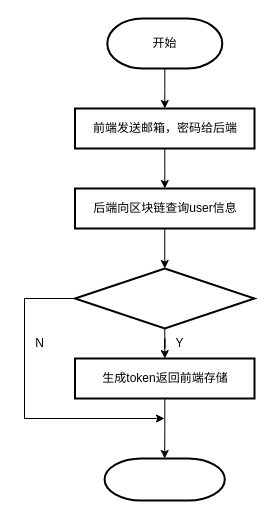
Image size: 273x518. Some labels were removed from this diagram. Here are the shapes that lost their labels. From the top down, the centre of each, then its label:
(x=164, y=298): 密码是否正确
(x=164, y=479): 结束
